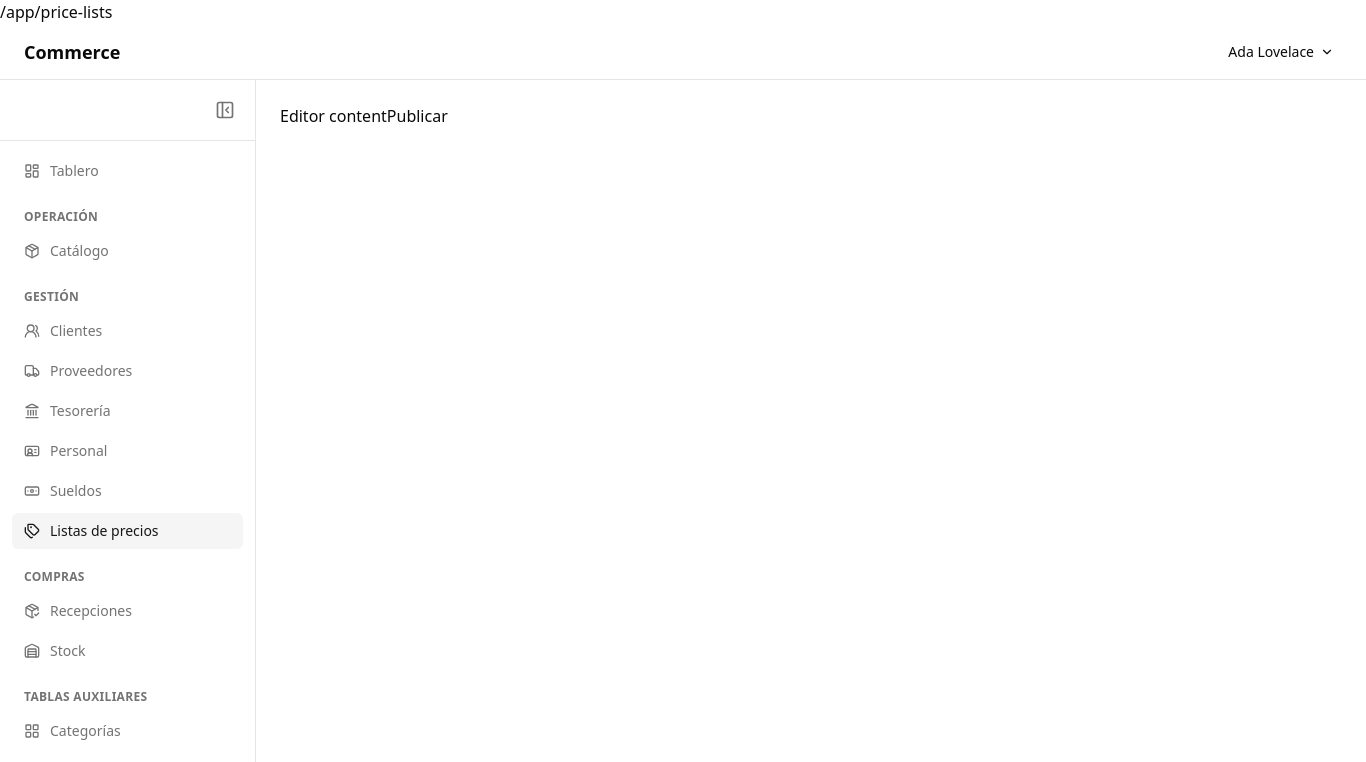
Test: AppLayout › unsaved changes guard › a sidebar click with pending changes asks first and stays on "Seguir editando"
Click the link "Clientes": (63,330) [24,321,102,340]
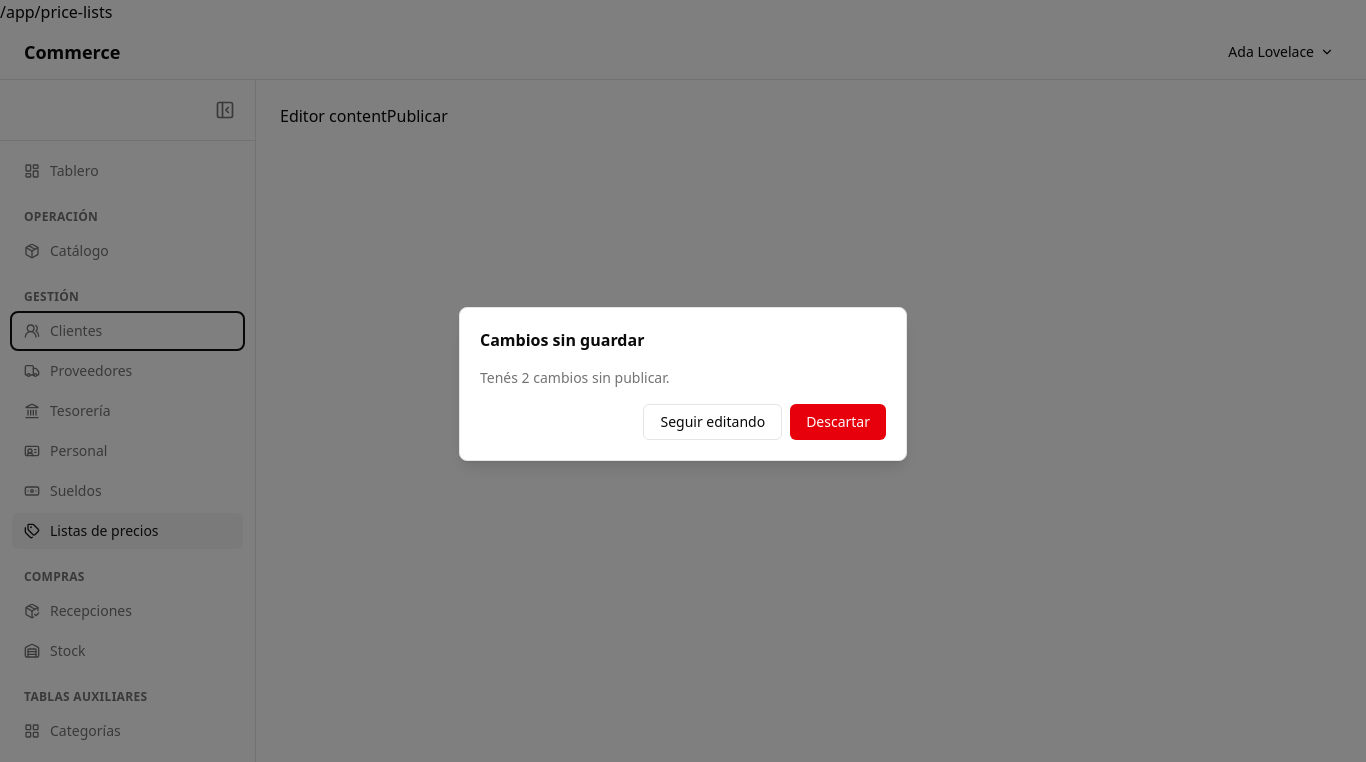
Expected: the text with test id "path" reads "/app/price-lists", [0,1,112,23]
Expected: the dialog shows "Tenés 2 cambios sin publicar.", [480,368,670,387]
Click the button "Seguir editando": (713,422) [644,404,782,440]
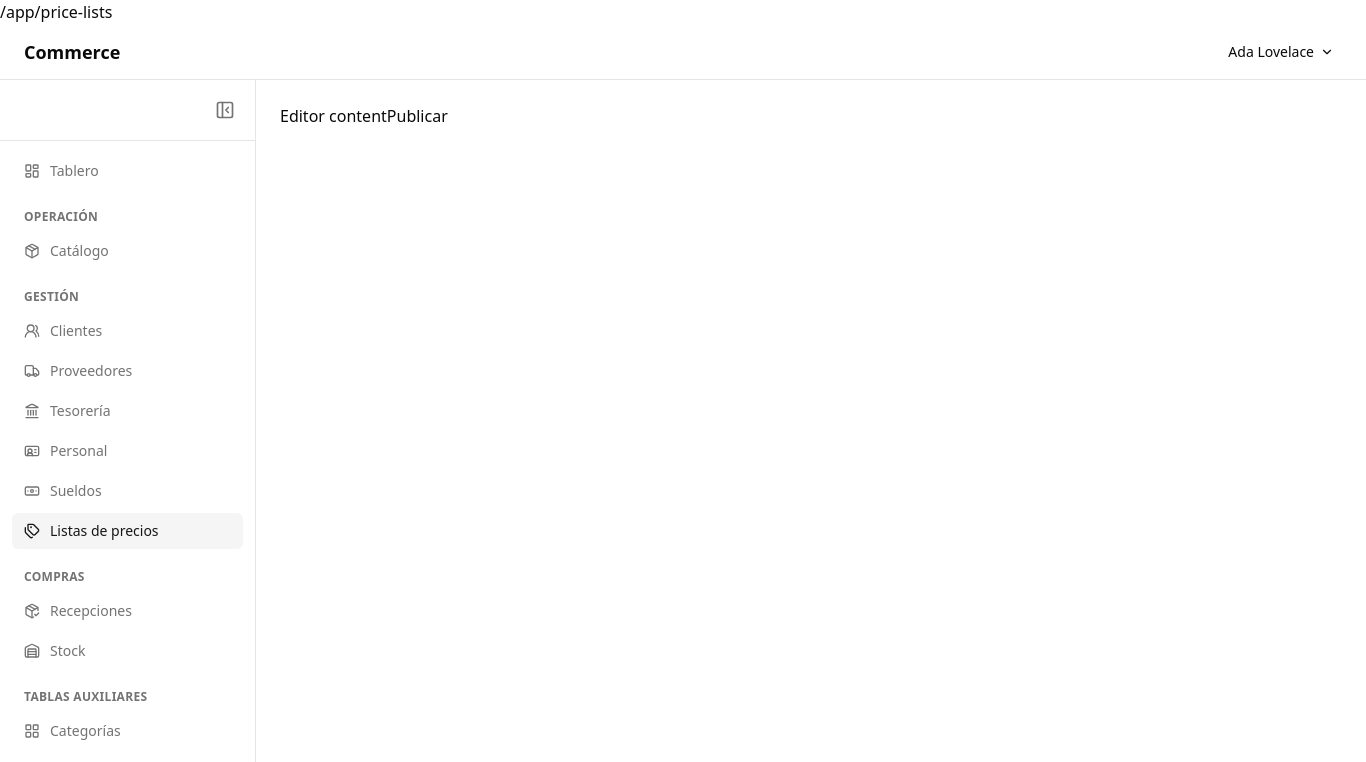
Expected: the text with test id "path" reads "/app/price-lists", [0,1,112,23]
Expected: the dialog is gone
